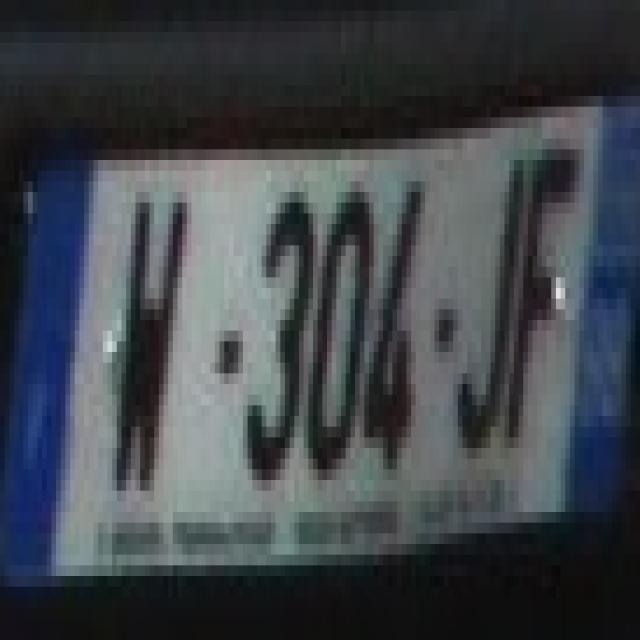Autre: (3, 102, 635, 578)
